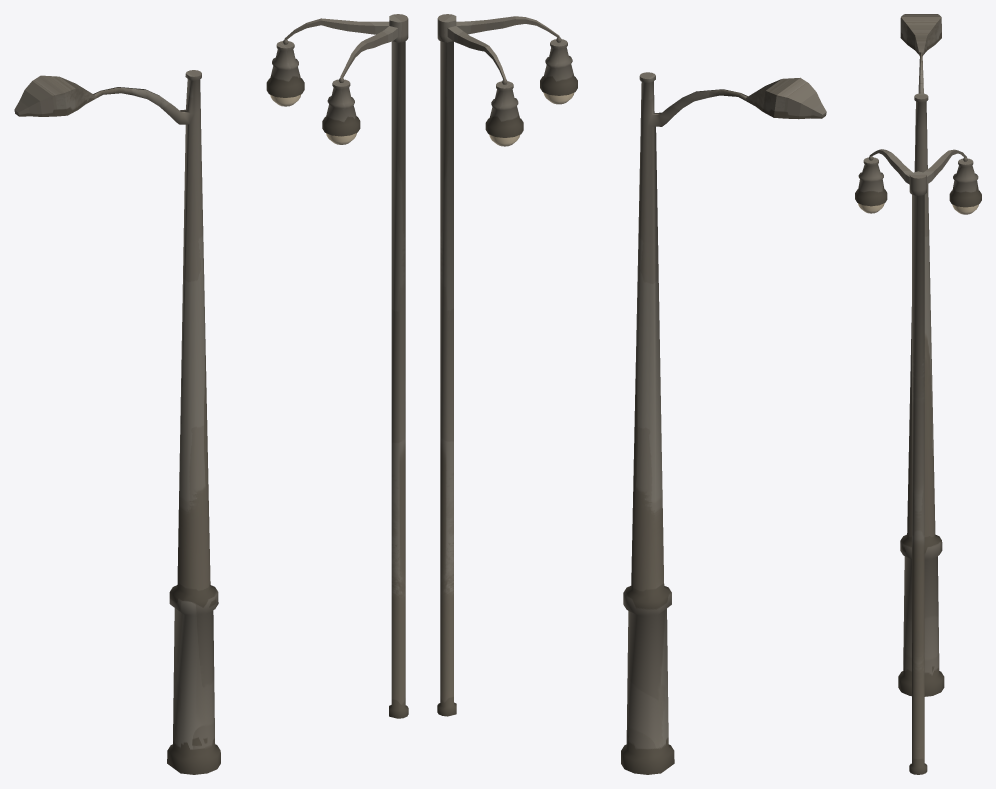
File: StreetLampsNEW.FBX
3 renders of one model, left to right at view 1: azimuth 30°, elevation 25°; view 2: azimuth 150°, elevation 25°; view 3: azimuth 270°, elevation 25°, orthographic. The views are drawn at different scales.
Parts seen in each view (by area): view 1: Cylinder002; view 2: Cylinder002; view 3: Cylinder002.
Boxes of the visible parts, x1=… form: Cylinder002: x1=14, y1=14, x2=408, y2=774; Cylinder002: x1=437, y1=14, x2=826, y2=774; Cylinder002: x1=855, y1=14, x2=981, y2=774.
Bounding box in the file's own units: 295 × 517 × 97.04.
